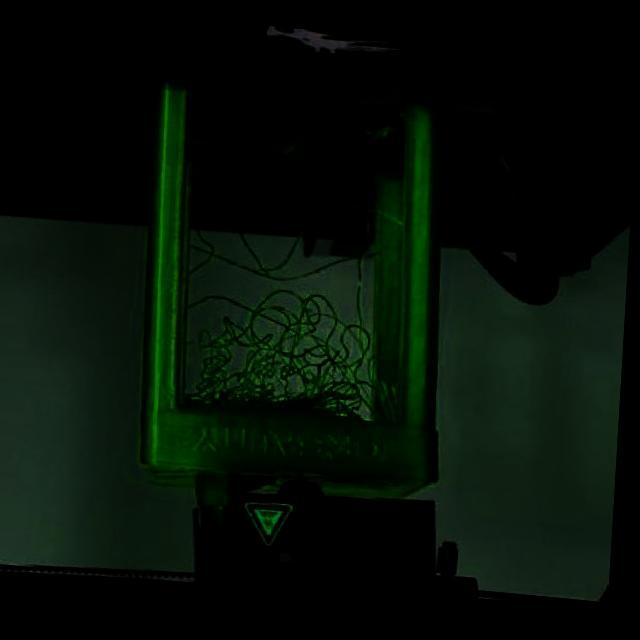spaghetti: (185, 179, 418, 420), (346, 98, 408, 163)
